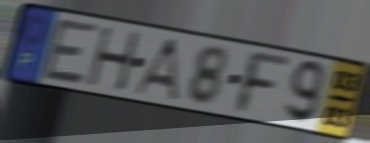8: (185, 43, 230, 109)
9: (282, 59, 327, 126)
A: (129, 36, 181, 104)
E: (39, 16, 101, 88)
F: (233, 47, 293, 118)
H: (85, 25, 143, 94)
